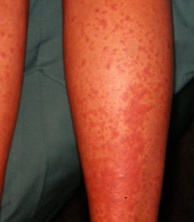SJS-TEN: (60, 0, 180, 222), (0, 0, 31, 222)
